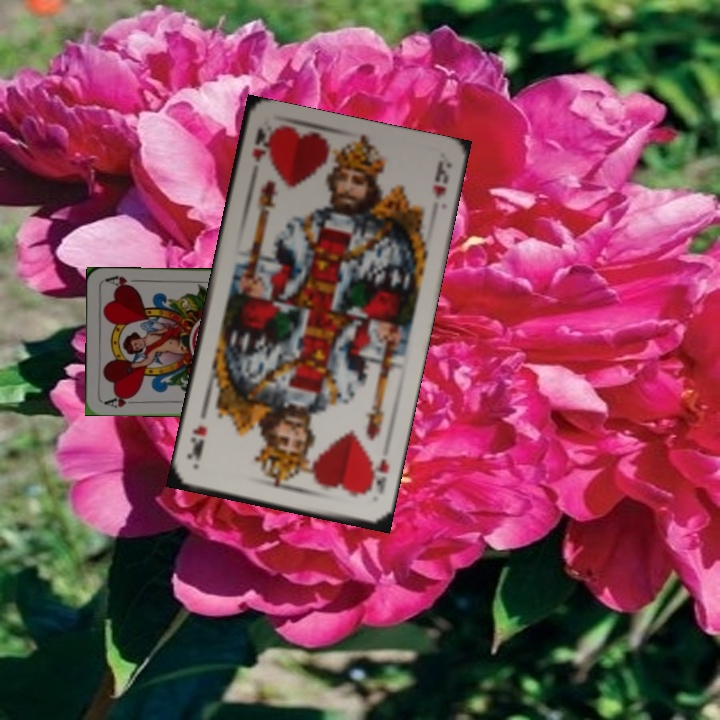HA: (100, 391, 140, 410)
HK: (361, 454, 391, 497), (248, 123, 275, 165)
